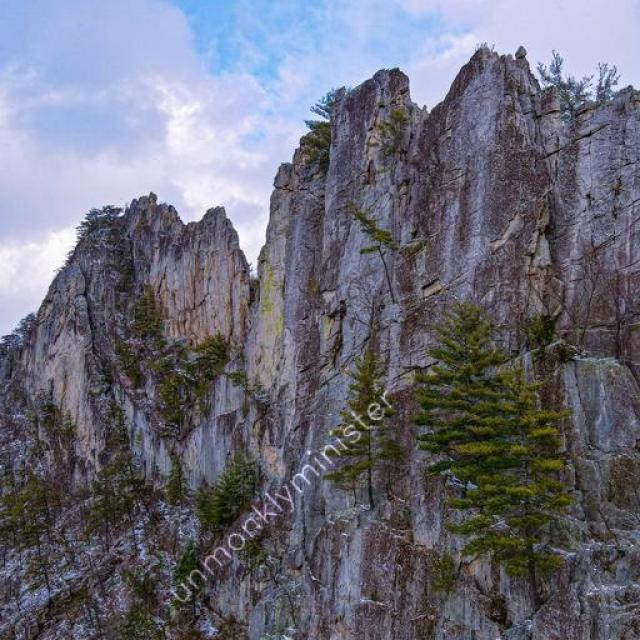watermark: (170, 374, 398, 612)
